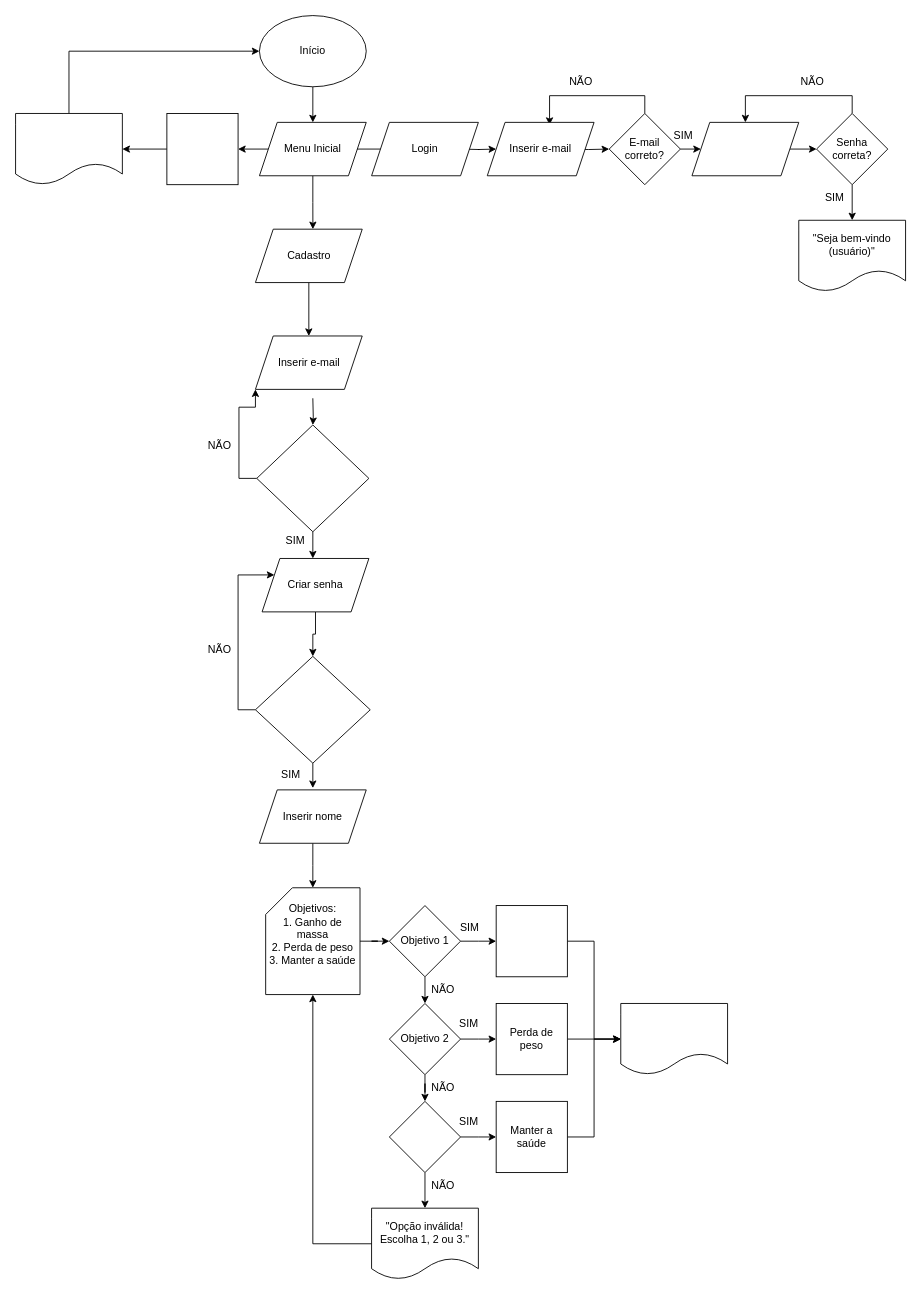
The diagram is 921 pixels wide and 1295 high, and some of its shapes have lost their labels. The shapes that lost their labels are listed below. From the top down, each one's centre as x and y in pixels, then its label:
point (68, 149): "Até logo!"
point (202, 149): Sair
point (745, 148): Inserir senha
point (312, 478): E-mail válido ? (contém @; .com e domínios válidos)
point (312, 709): Senha válida? (contém no mín. 6 caracteres)
point (531, 941): Ganho de massa
point (674, 1039): "Seja bem-vindo ao VIRTUAL TRACK"
point (424, 1136): Objetivo 3
